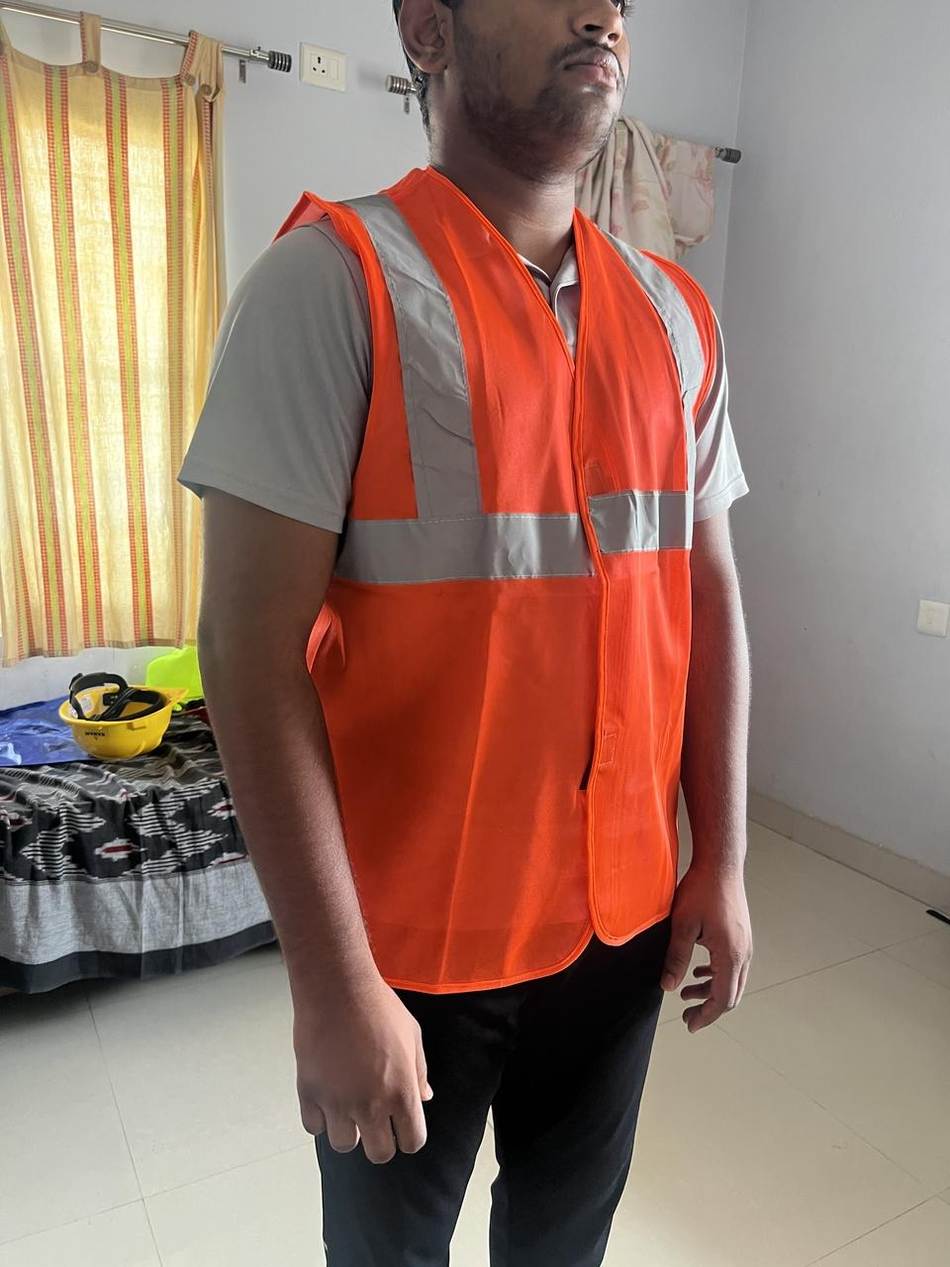No_Helmet: (392, 0, 636, 170)
Person: (176, 0, 753, 1267)
Vest: (274, 167, 718, 995)
